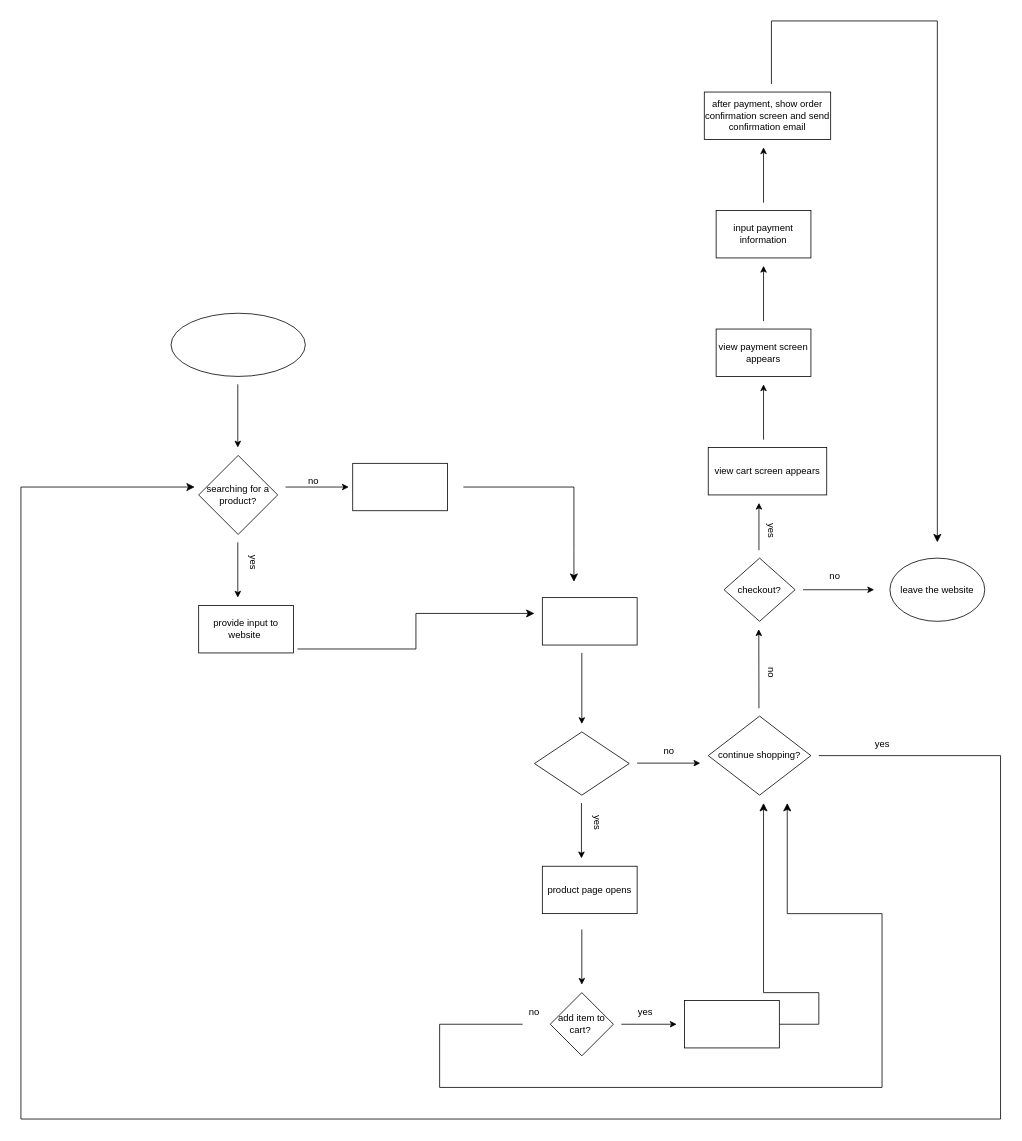
Some shapes in this 1022 by 1141 pixel diagram are drawn without their labels. Here are the shapes that lost their labels. From the top down, the box of each, then its label:
(170, 312, 305, 376): User enters website
(352, 463, 448, 511): explore products in homepage
(542, 597, 637, 645): look over products
(534, 731, 629, 795): view a specific product
(684, 1000, 779, 1048): added to cart confirmation is shown
